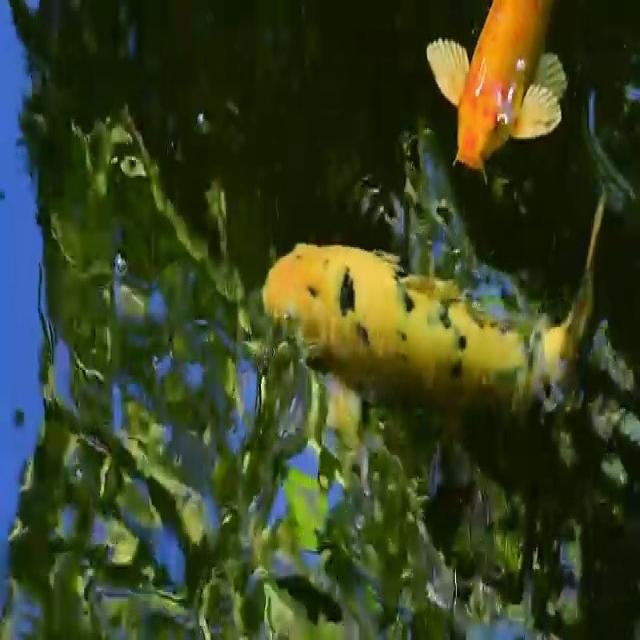fish: (255, 198, 640, 435), (409, 0, 580, 175)
